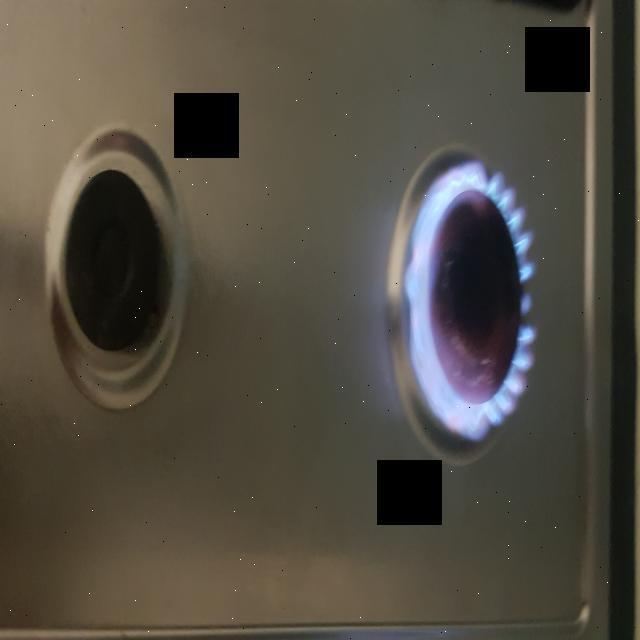Flame: (399, 133, 536, 468)
